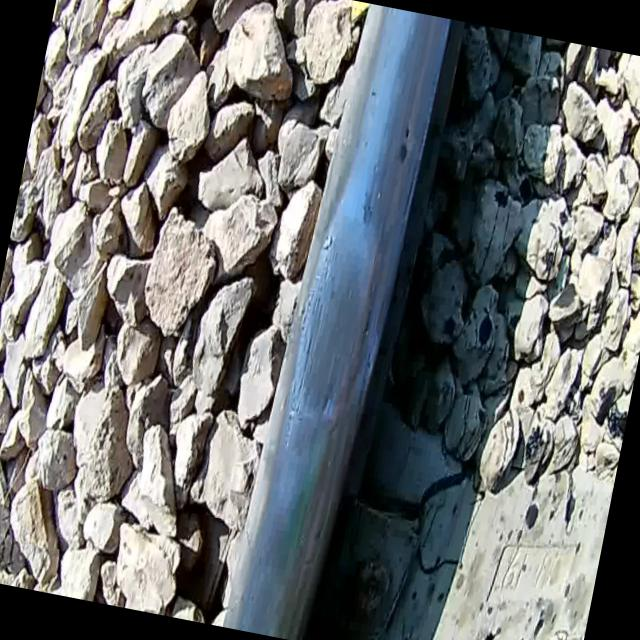Spallings: (331, 8, 462, 350), (265, 381, 374, 640)
Squats: (276, 230, 392, 445)
